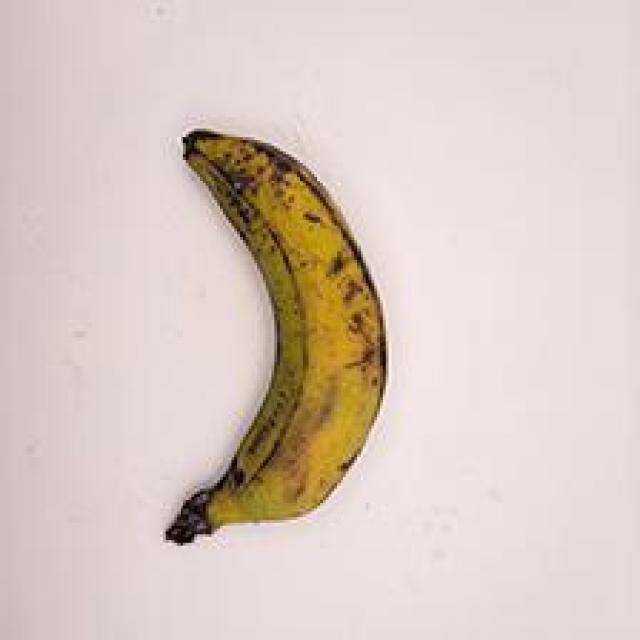Overripe: (136, 103, 404, 568)
